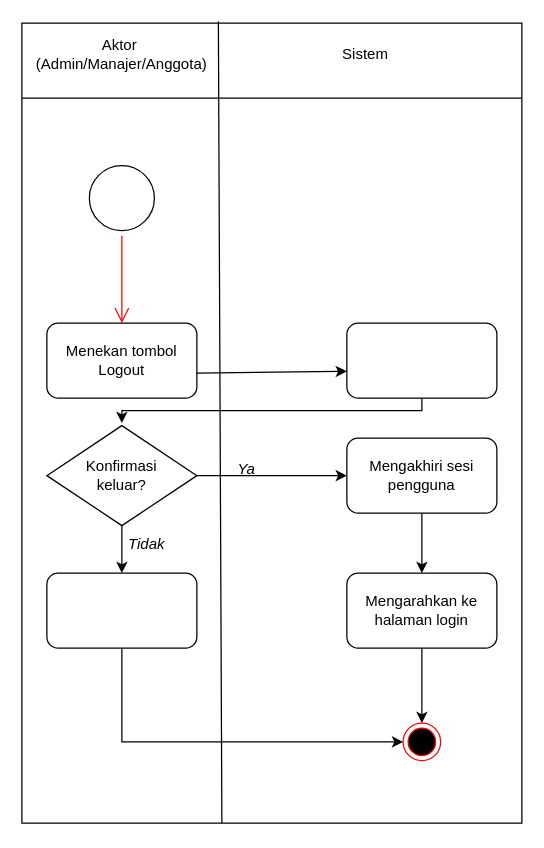
Some shapes in this 544 by 848 pixel diagram are drawn without their labels. The shapes that lost their labels are listed below. From the top down, each one's centre as x and y in pixels, then its label:
(x=421, y=360): Menampilkan konfirmasi keluar
(x=121, y=610): Tetap menampilkan halaman yang sedang dibuka
